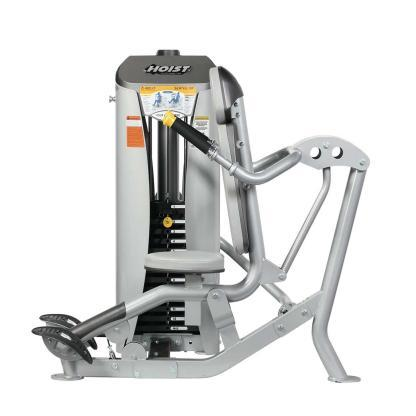seated dip machine: (34, 49, 371, 383)
